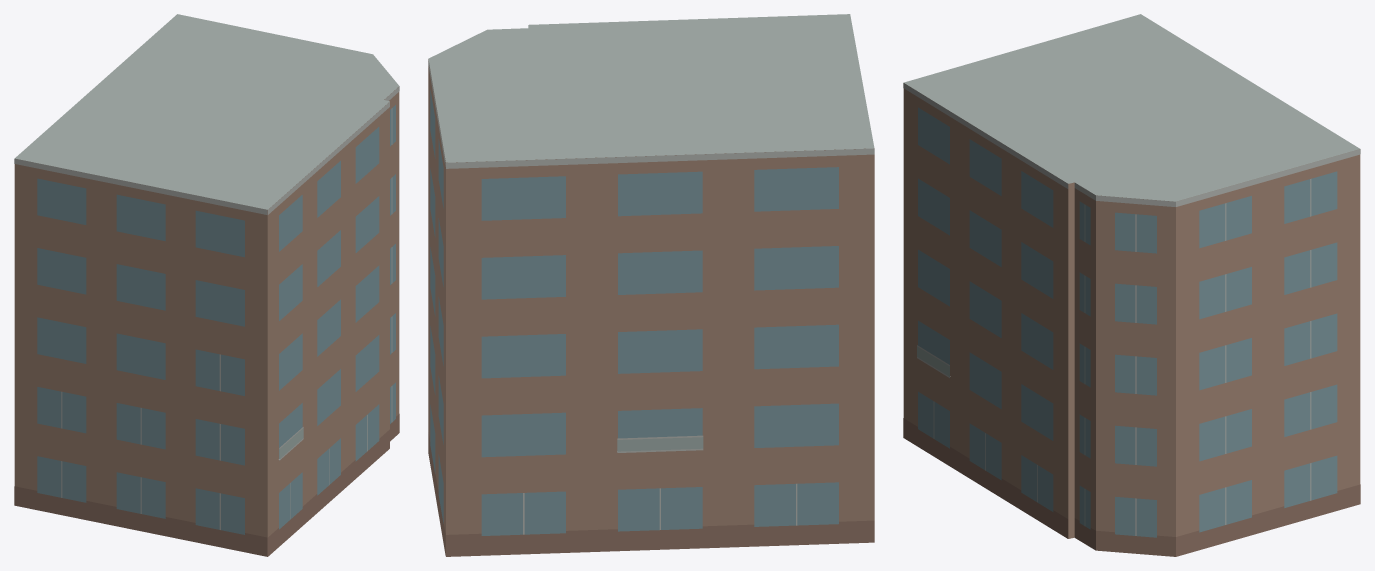
File: survey-upis-32674734.glb
The picture shows the model from 3 angles, left to right: view 1: azimuth 30°, elevation 25°; view 2: azimuth 150°, elevation 25°; view 3: azimuth 270°, elevation 25°; orthographic projection. The views are drawn at different scales.
Visible parts, largest first — view 1: survey-upis-32674734.tmp; view 2: survey-upis-32674734.tmp; view 3: survey-upis-32674734.tmp.
Boxes of the visible parts, x1,y1,x2,y2 form: survey-upis-32674734.tmp: (14, 14, 399, 556); survey-upis-32674734.tmp: (428, 14, 874, 556); survey-upis-32674734.tmp: (903, 14, 1360, 556).
Bounding box in the file's own units: 17.8 × 15.7 × 18.31.
